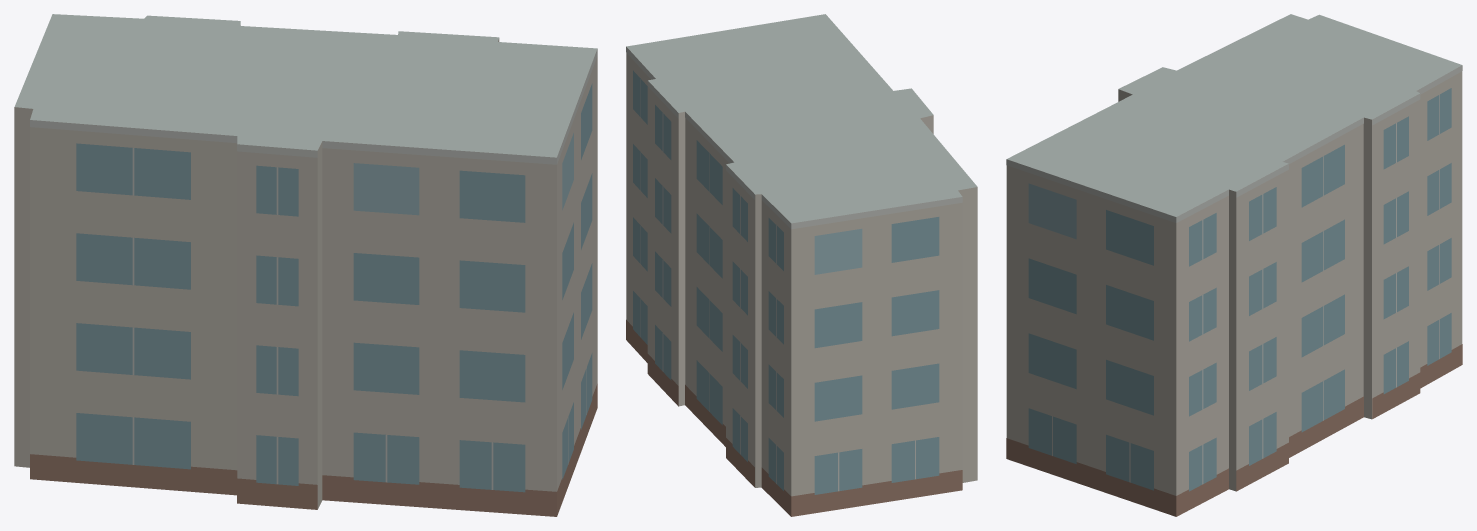
The model's file is survey-upis-32806404.glb.
The picture shows the model from 3 angles, left to right: view 1: azimuth 30°, elevation 25°; view 2: azimuth 150°, elevation 25°; view 3: azimuth 270°, elevation 25°; orthographic projection. The views are drawn at different scales.
Visible parts, largest first — view 1: survey-upis-32806404.tmp; view 2: survey-upis-32806404.tmp; view 3: survey-upis-32806404.tmp.
Part boxes in pixels (x1=…): survey-upis-32806404.tmp: x1=14, y1=14, x2=597, y2=516; survey-upis-32806404.tmp: x1=626, y1=14, x2=977, y2=516; survey-upis-32806404.tmp: x1=1006, y1=14, x2=1462, y2=516.
Bounding box in the file's own units: 17.74 × 12.2 × 16.83.
